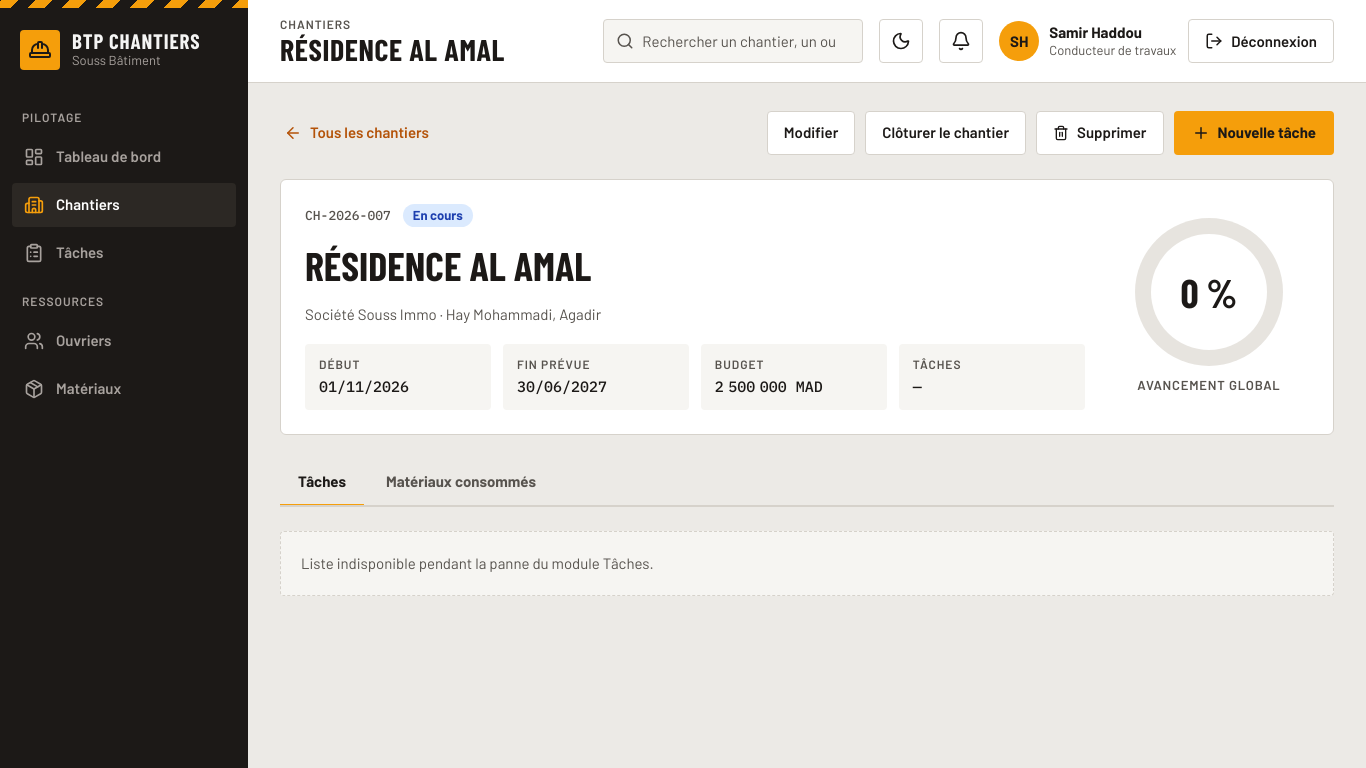
Test case: Suppression d’un chantier (API réelle) › 204 : retour à la liste, sans redemander la fiche supprimée (404)
Click the button "Supprimer": point(1100, 132) x1=1036 y1=110 x2=1164 y2=154
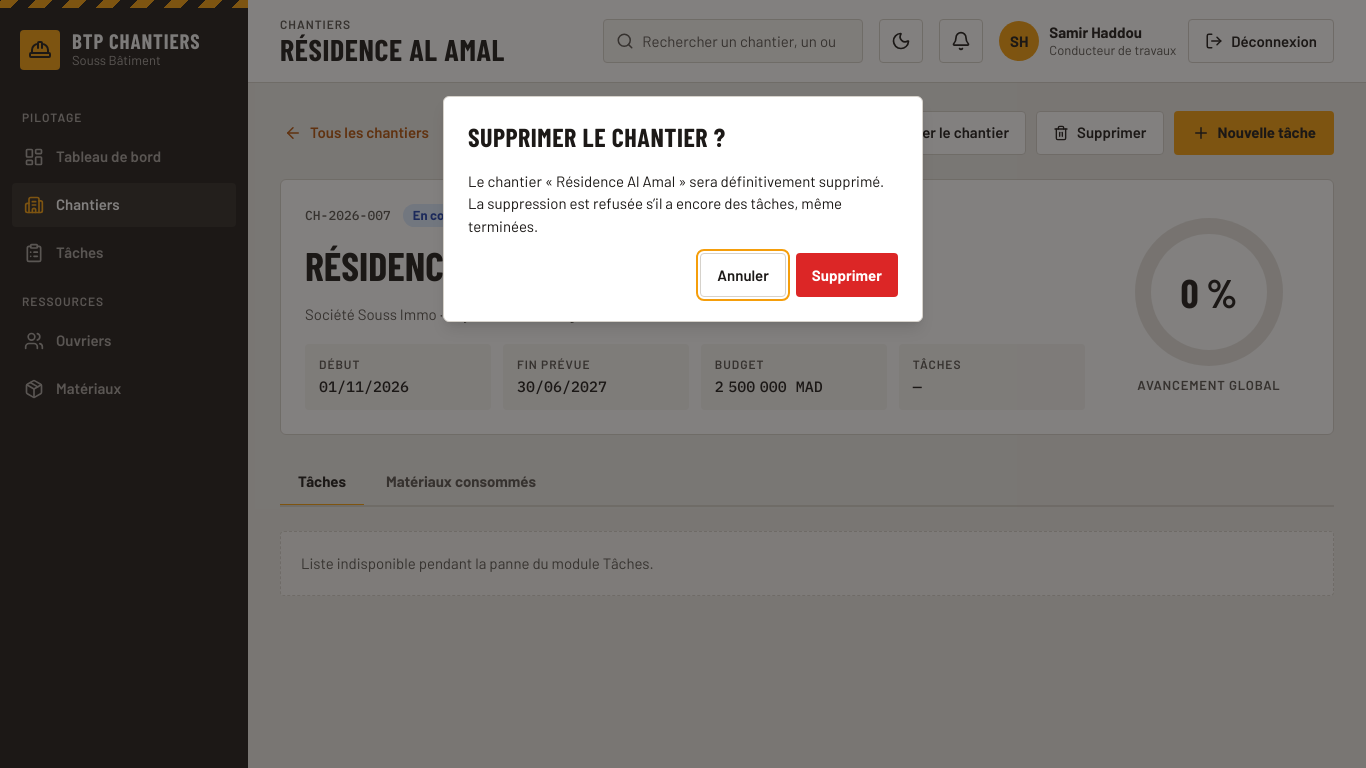
Click the button "Supprimer": point(847, 275) x1=796 y1=253 x2=898 y2=297
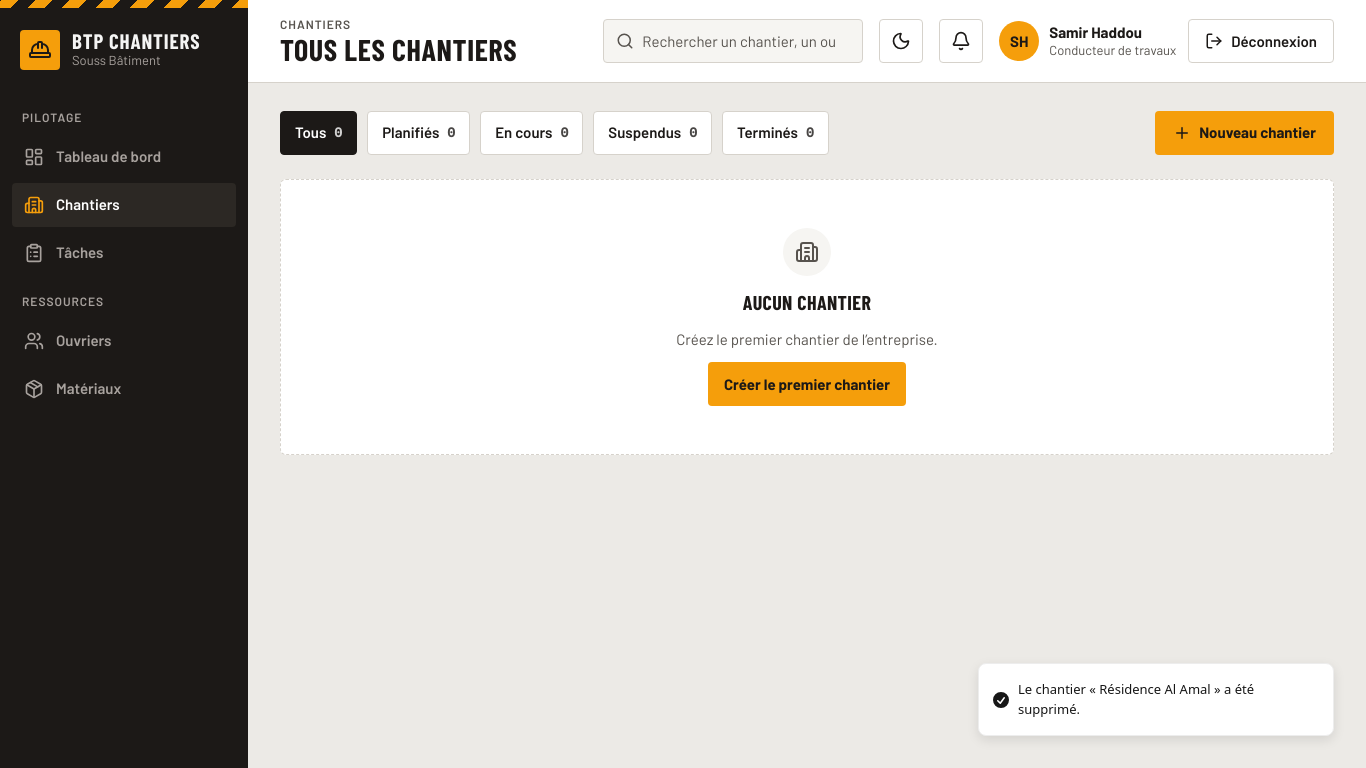
Expected: the text "Le chantier « Résidence Al Amal » a été supprimé." is shown, x1=1018 y1=680 x2=1254 y2=718
Expected: the heading "Aucun chantier" is shown, x1=743 y1=288 x2=871 y2=316
